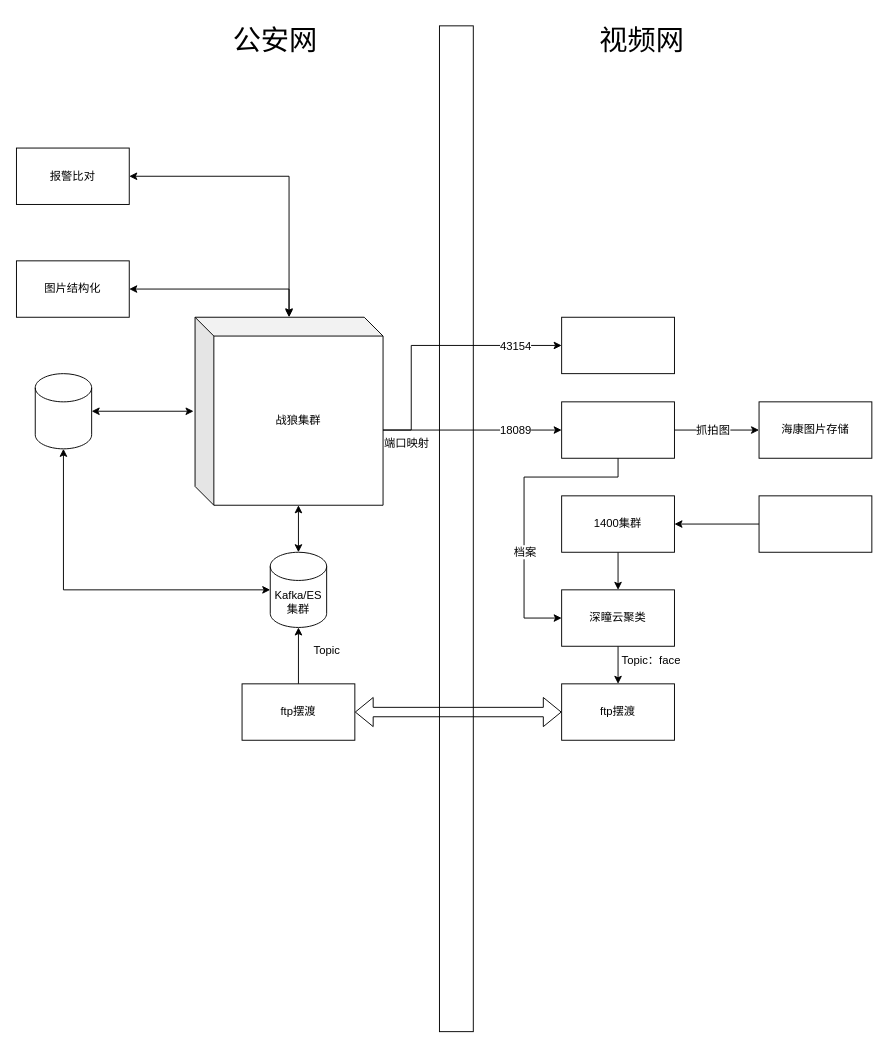
The diagram is 888 pixels wide and 1048 high, and some of its shapes have lost their labels. Here are the shapes that lost their labels. From the top down, the box of each, then its label:
(561, 316, 674, 374): 视频结构化
(34, 373, 92, 449): citus
(561, 401, 674, 458): 图片代理
(439, 25, 473, 1032): 数据边界
(758, 495, 872, 552): 网力DAG
